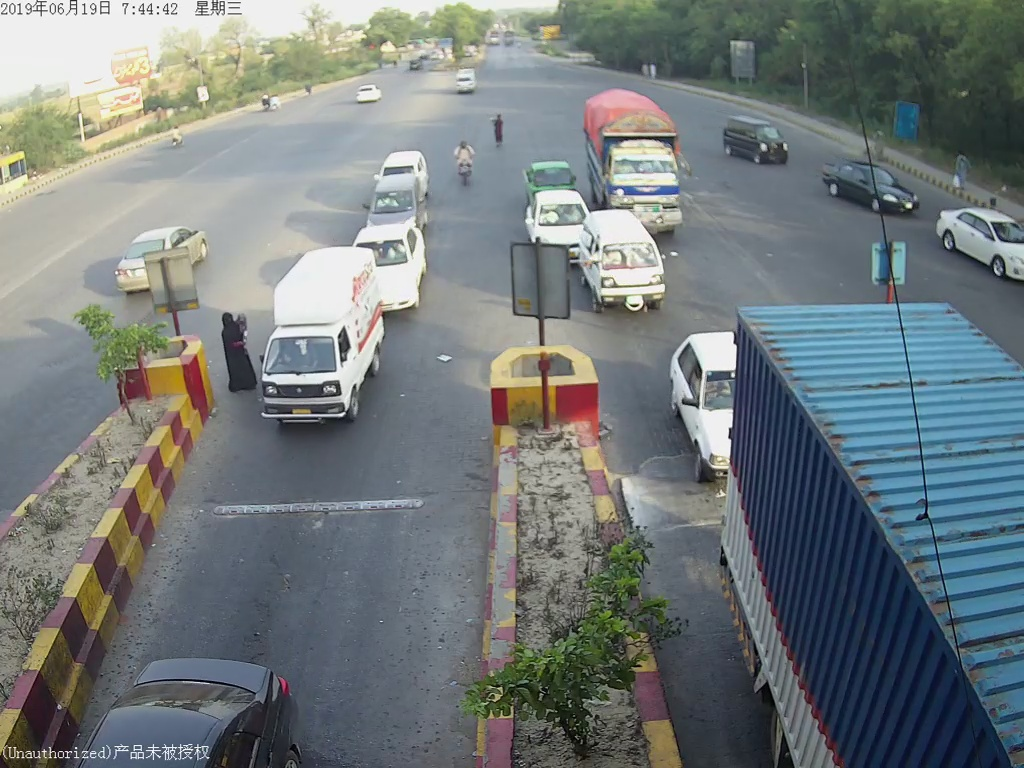Cat-1: (261, 258, 392, 436), (666, 330, 731, 478), (585, 214, 670, 315)
Cat-4: (589, 95, 687, 208)
